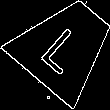L_NE: (37, 17, 94, 75)
